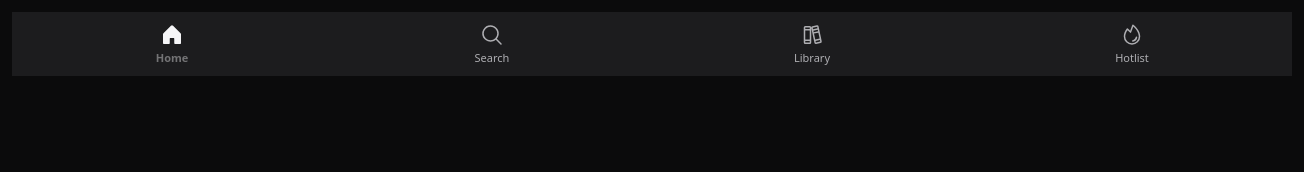
Test: TabBar › navigates to the tab's route when tapped
This screenshot has width=1304, height=172.
Click the button "Search": (492,44) [332,12,652,76]
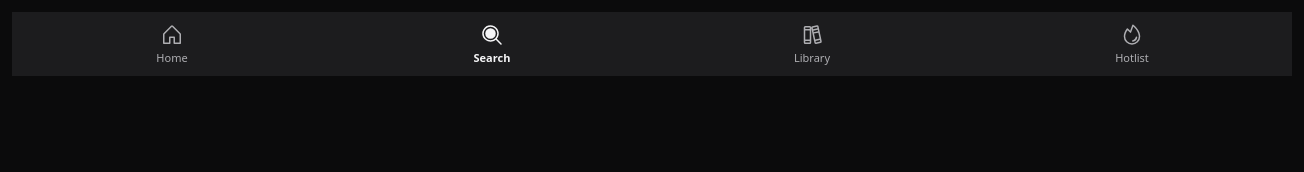
Check: the button "Search" is marked as current, box [332,12,652,76]
Check: the button "Home" does not have attribute aria-current, box [12,12,332,76]
